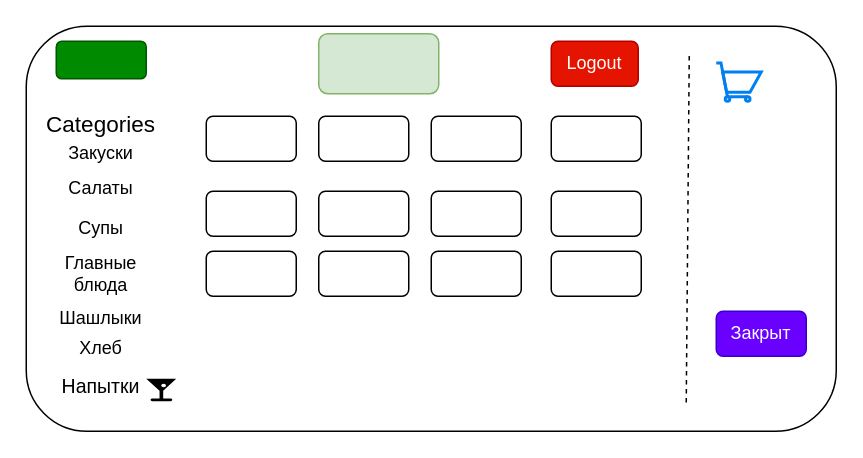
Image size: 863x458. Some labels were removed from this diagram. The centre of each missing label's shape, as x and y in pixels:
Logo: [100,59]
Стул №: [378,63]
